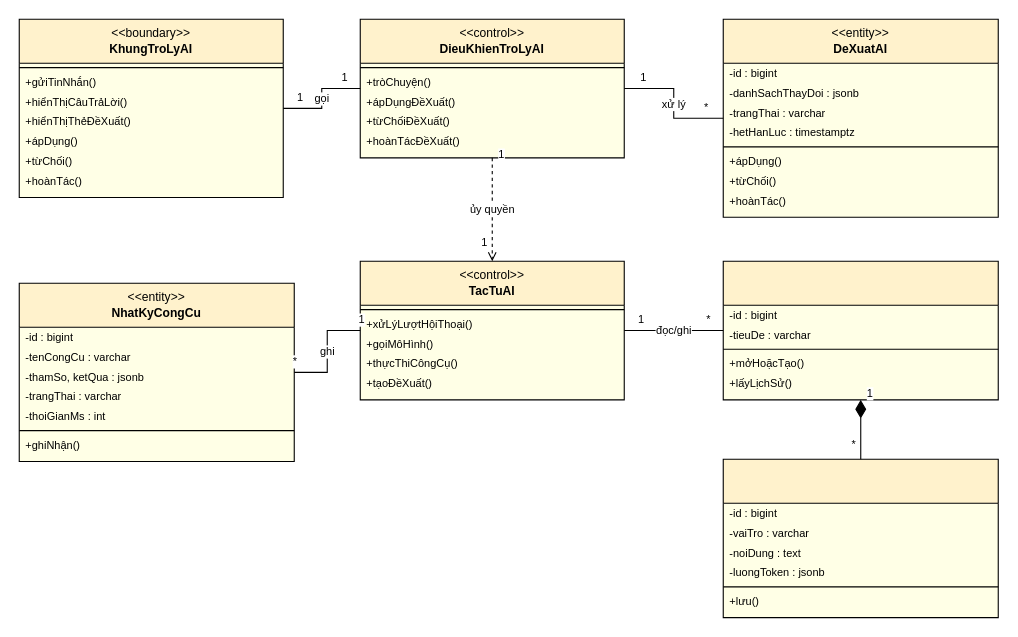
The diagram is 1018 pixels wide and 637 high, and some of its shapes have lost their labels. The shapes that lost their labels are listed below. From the top down, each one's box as (x1, y1, x2, y2) in pixels, then its label:
(722, 260, 998, 400): <<entity>> HoiThoai
(722, 458, 998, 618): <<entity>> TinNhan
